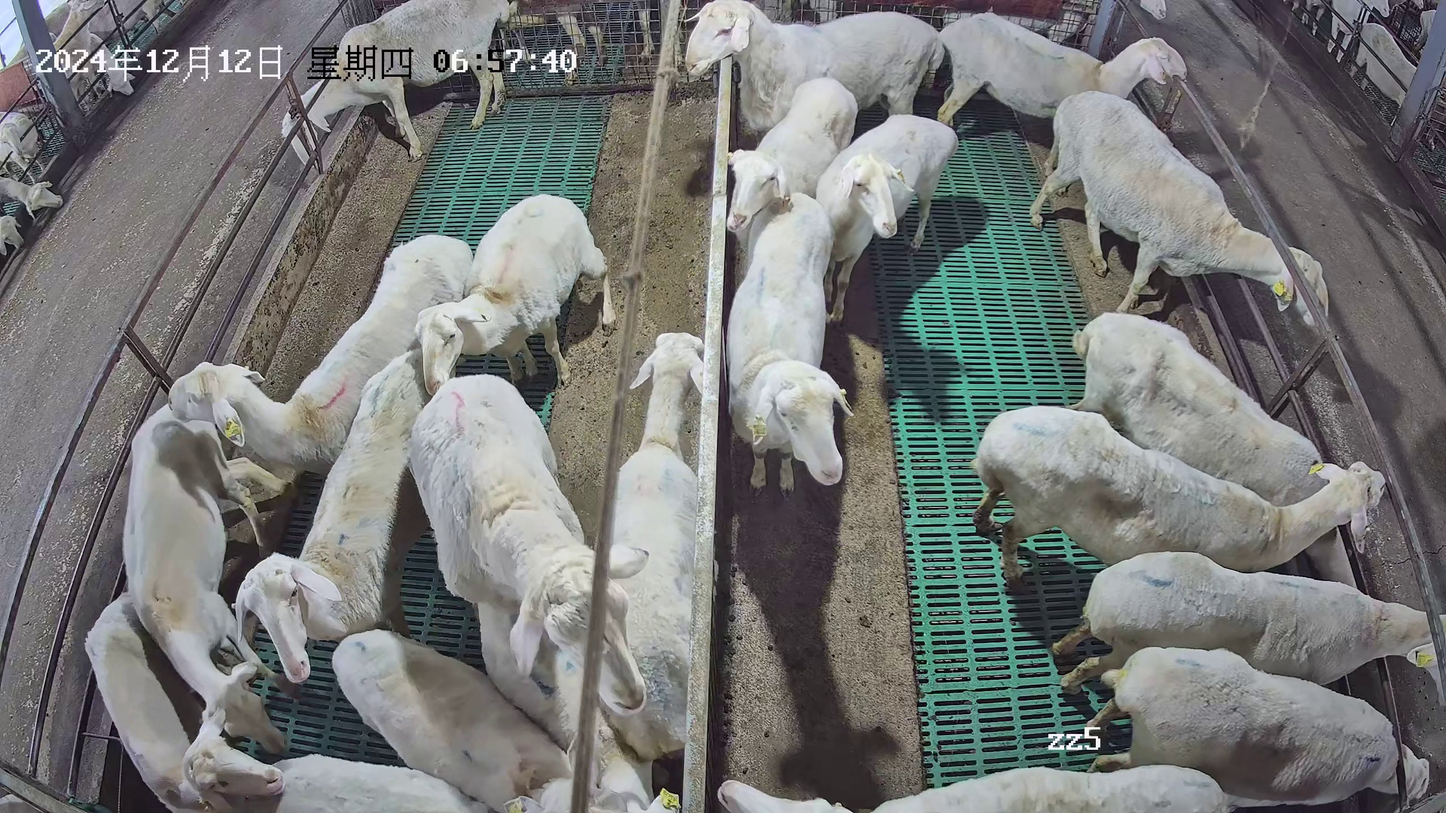Smounting: (411, 373, 685, 813)
mounted: (475, 597, 681, 813)
